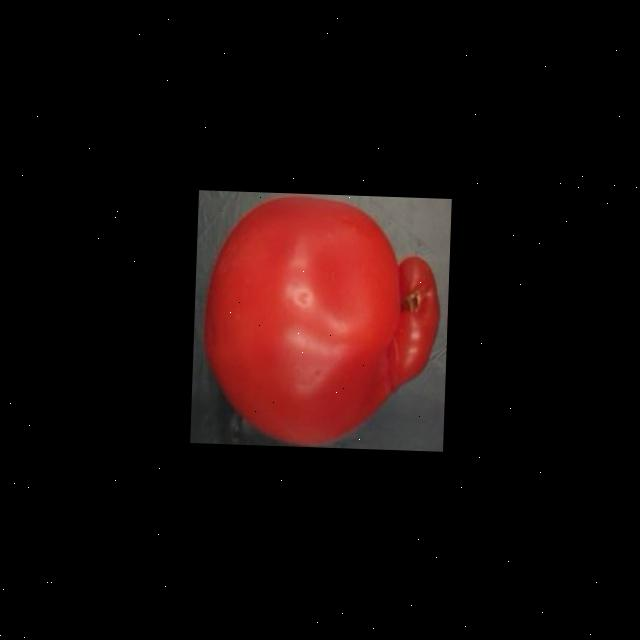tomato: (194, 190, 446, 446)
